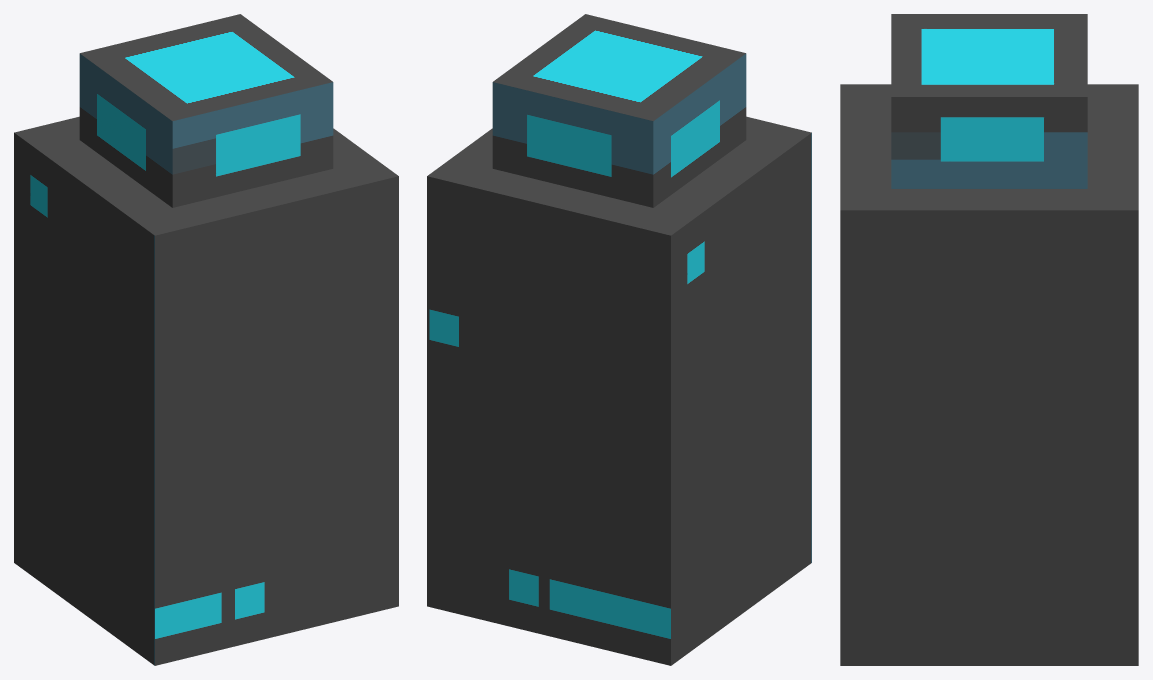
The model's file is building1.obj.
3 views of the same model, side by side, from view 1: azimuth 30°, elevation 25°; view 2: azimuth 150°, elevation 25°; view 3: azimuth 270°, elevation 25° (orthographic). The views are drawn at different scales.
Visible parts, largest first — view 1: Cube; view 2: Cube; view 3: Cube.
Part boxes in pixels (x1,y1,x2,y2): Cube: [14, 14, 398, 665]; Cube: [427, 14, 811, 665]; Cube: [840, 14, 1138, 665].
Size of the model in its own units: 2 by 4.05 by 2.
